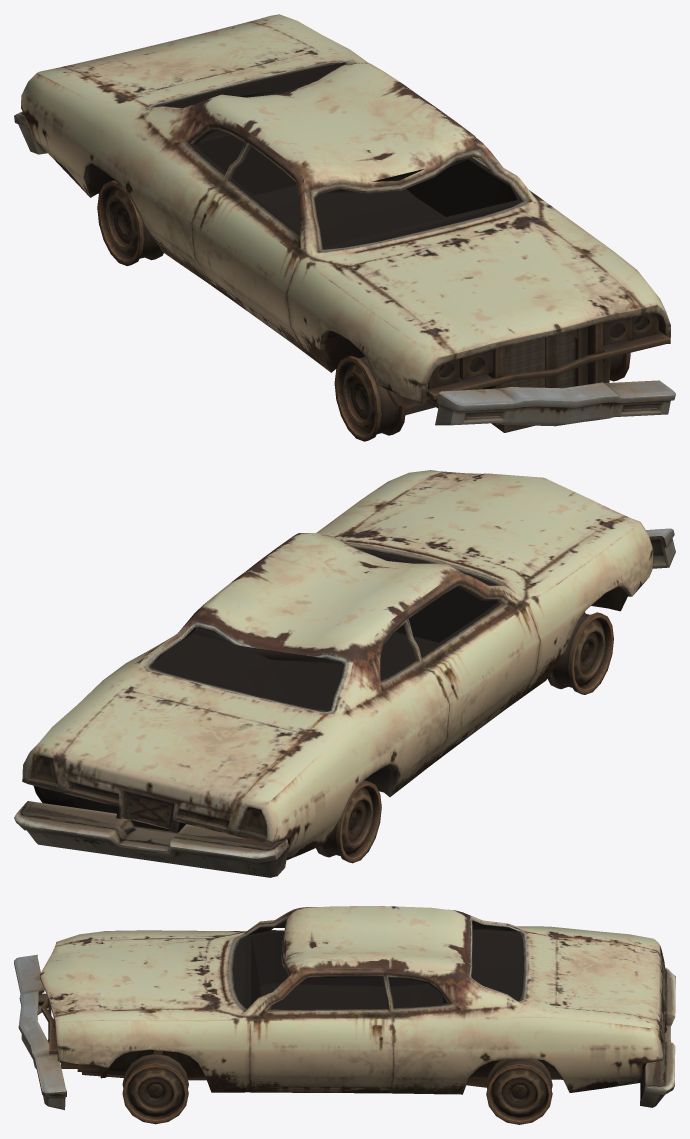
File: School_WreckCar02.fbx
3 renders of one model, top to bottom at view 1: azimuth 30°, elevation 25°; view 2: azimuth 150°, elevation 25°; view 3: azimuth 270°, elevation 25°, orthographic. The views are drawn at different scales.
Parts seen in each view (by area): view 1: ItemBox_WreckCar_White_01_0; view 2: ItemBox_WreckCar_White_01_0; view 3: ItemBox_WreckCar_White_01_0.
Part boxes in pixels (<box>): ItemBox_WreckCar_White_01_0: <box>14,14,675,441</box>; ItemBox_WreckCar_White_01_0: <box>14,470,675,877</box>; ItemBox_WreckCar_White_01_0: <box>14,906,675,1124</box>.
Bounding box in the file's own units: 202 × 131 × 547.
1 material, 1 textured.
